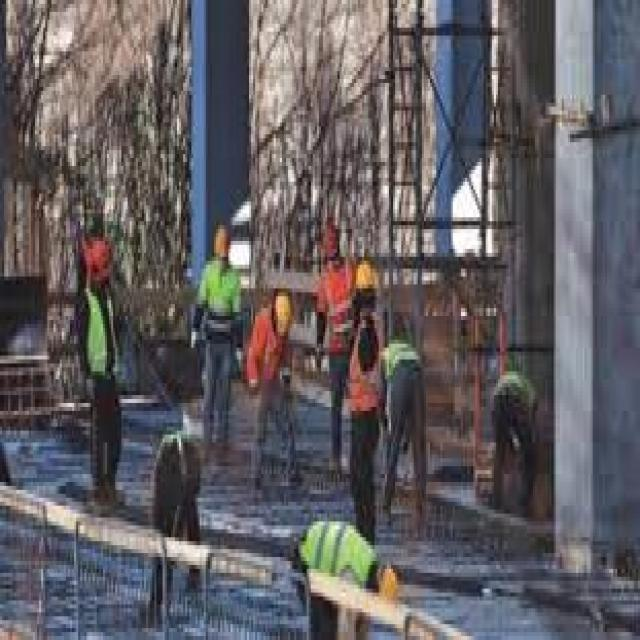Reflective-Jacket: (76, 284, 126, 399), (193, 256, 247, 356), (317, 261, 358, 375), (381, 332, 428, 387)
Safety-Helmet: (80, 233, 120, 296), (350, 249, 385, 308), (319, 209, 348, 269), (270, 280, 298, 340), (208, 213, 237, 265)
